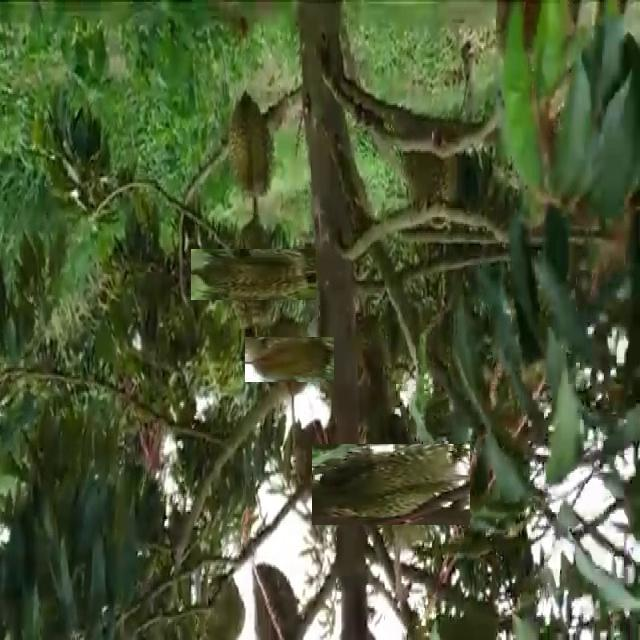durian: (330, 425, 450, 545), (209, 230, 298, 319), (225, 86, 277, 206), (256, 325, 323, 393)
